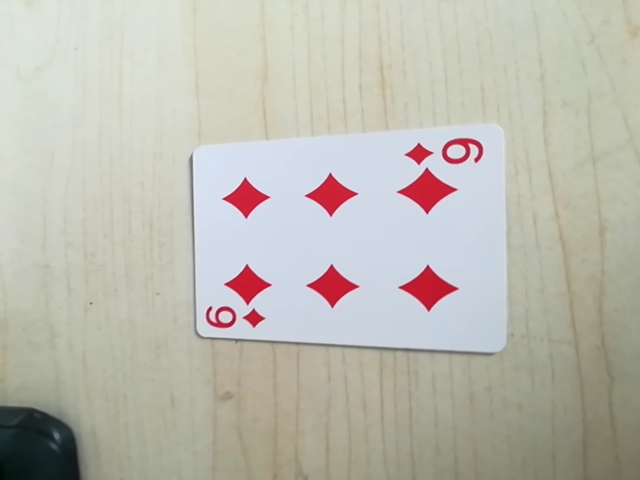fk 6: (400, 130, 490, 172), (202, 302, 267, 336)
